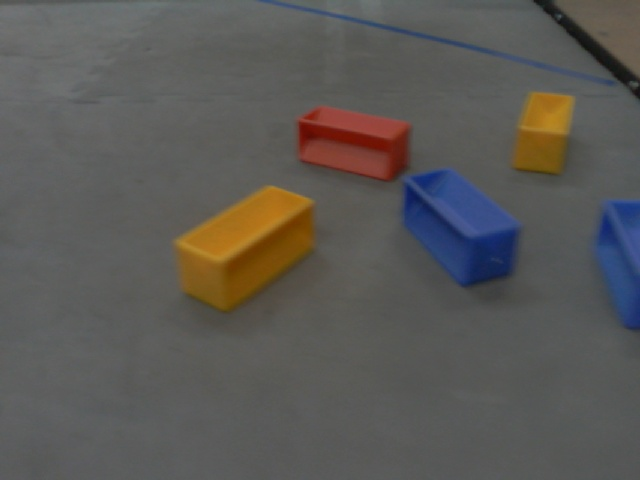BlueSample: (394, 163, 526, 292), (592, 193, 640, 336)
RedSample: (294, 103, 414, 187)
YellowSample: (170, 179, 318, 314), (510, 89, 576, 178)
